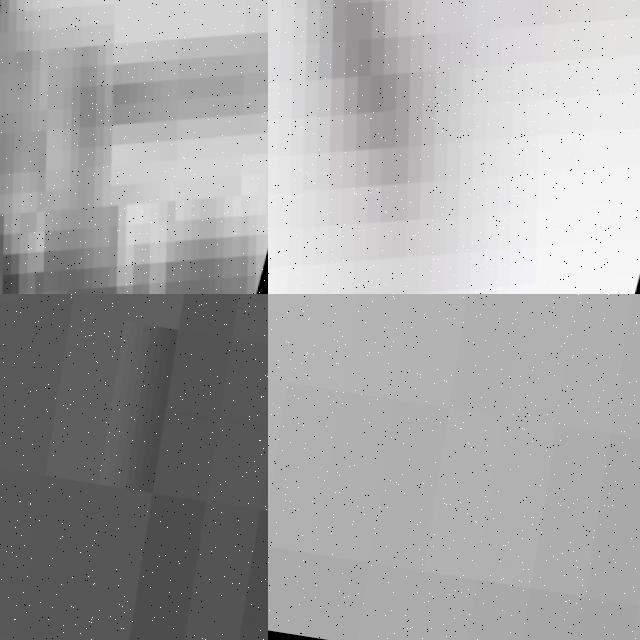0: (0, 0, 268, 294)
drone: (268, 0, 640, 294)
